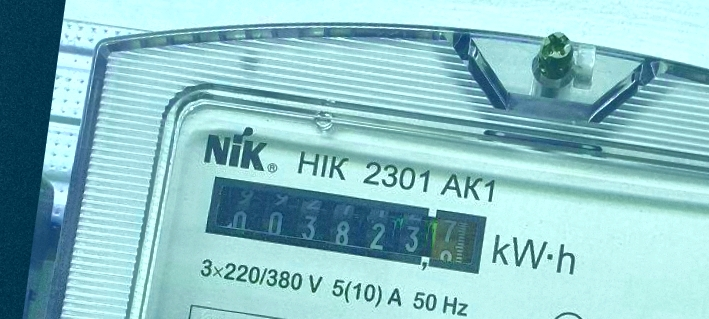0: (262, 206, 286, 236), (229, 206, 250, 231)
2: (366, 218, 389, 253)
3: (401, 222, 423, 254), (298, 210, 320, 241)
7: (439, 217, 459, 247)
8: (331, 217, 352, 247)
9: (234, 185, 254, 206)
screen: (197, 170, 492, 279)
